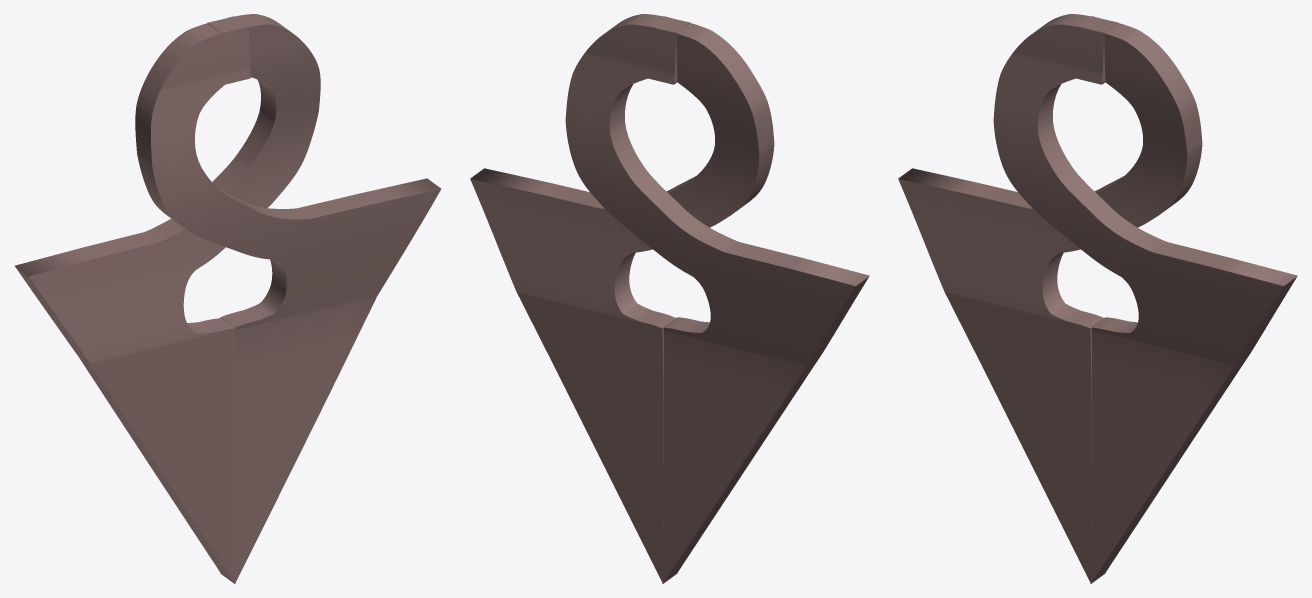
Rendered from деталька.glb.
3 views of the same model, side by side, from view 1: azimuth 30°, elevation 25°; view 2: azimuth 150°, elevation 25°; view 3: azimuth 330°, elevation 25° (orthographic).
Parts seen in each view (by area): view 1: какаято деталькка интепесная; view 2: какаято деталькка интепесная; view 3: какаято деталькка интепесная.
Boxes of the visible parts, bbox=[...] form: какаято деталькка интепесная: bbox=[15, 14, 441, 583]; какаято деталькка интепесная: bbox=[470, 14, 869, 583]; какаято деталькка интепесная: bbox=[898, 14, 1297, 583].
Size of the model in its own units: 2.56 by 3.4 by 0.346.
